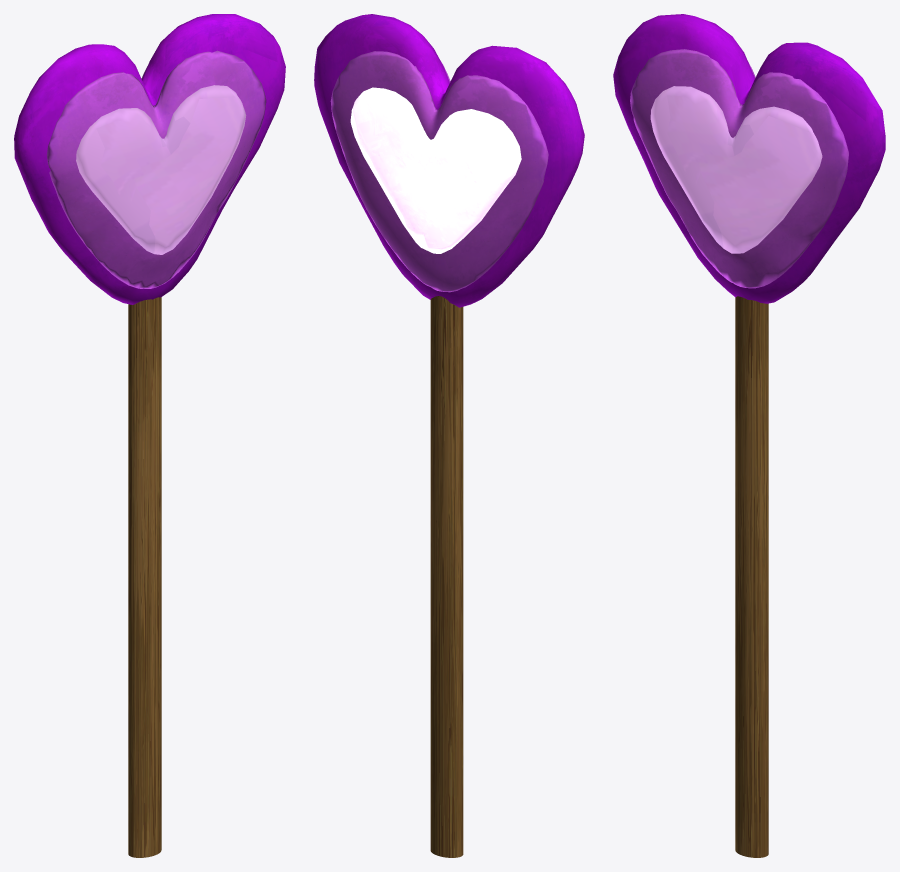
The model's file is garten_of_banban_7_-_scepter_full.glb.
The picture shows the model from 3 angles, left to right: view 1: azimuth 30°, elevation 25°; view 2: azimuth 150°, elevation 25°; view 3: azimuth 330°, elevation 25°; orthographic projection.
Visible parts, largest first — view 1: Scepter_Full.001; view 2: Scepter_Full.001; view 3: Scepter_Full.001.
Boxes of the visible parts, x1,y1,x2,y2 form: Scepter_Full.001: (14,14,285,857); Scepter_Full.001: (314,14,584,857); Scepter_Full.001: (613,14,885,857).
Size of the model in its own units: 7.86 by 22.94 by 2.07.
6 materials, 5 textured.
